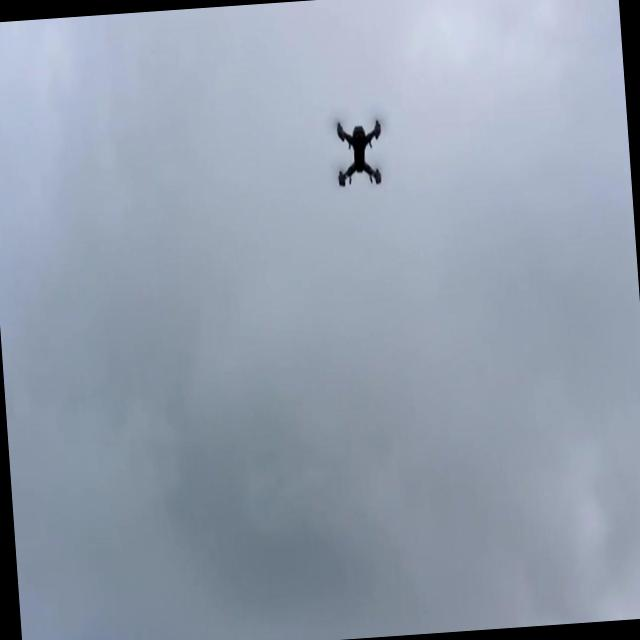drone: (333, 114, 386, 193)
